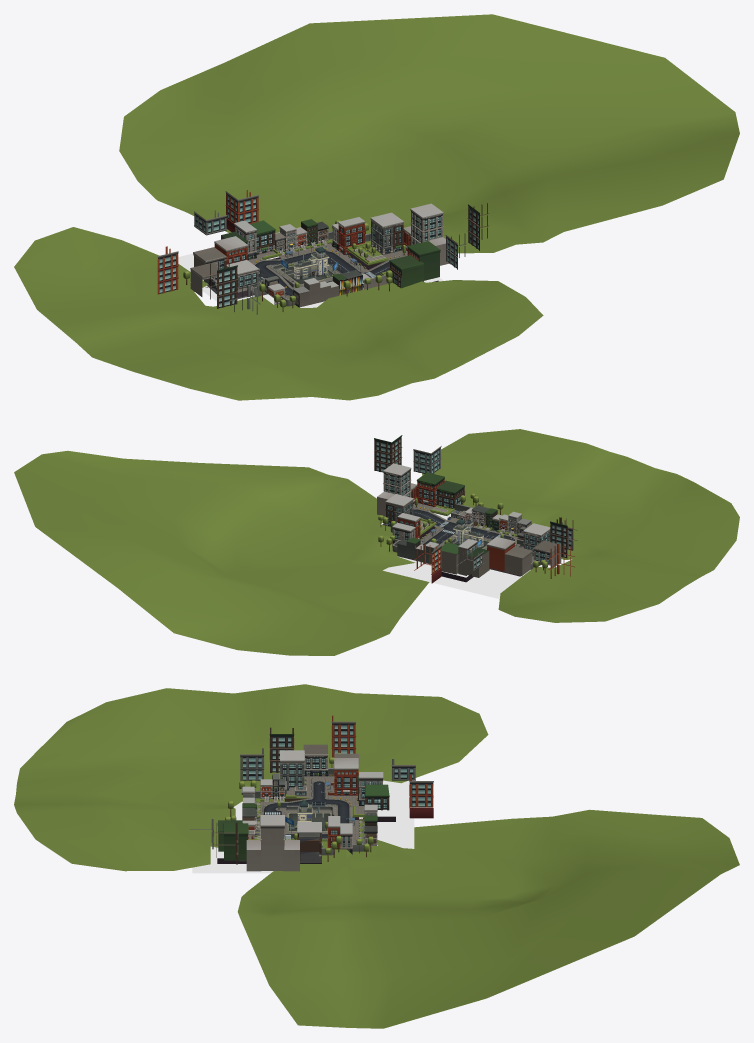
Rendered from small town.glb.
3 views of the same model, one above another, from view 1: azimuth 30°, elevation 25°; view 2: azimuth 150°, elevation 25°; view 3: azimuth 270°, elevation 25° (orthographic). The views are drawn at different scales.
Parts seen in each view (by area): view 1: mesh; view 2: mesh; view 3: mesh.
Part boxes in pixels (<box>): mesh: <box>14,14,739,400</box>; mesh: <box>14,429,739,655</box>; mesh: <box>14,684,739,1028</box>.
Size of what is drawn, in the model's own units: 542 by 56.46 by 472.
Materials: 9 (5 with a texture image).
